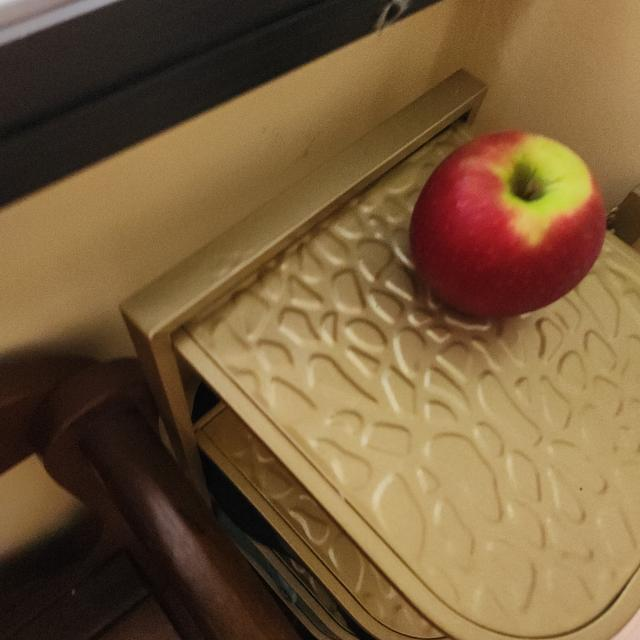apple: (404, 118, 612, 324)
